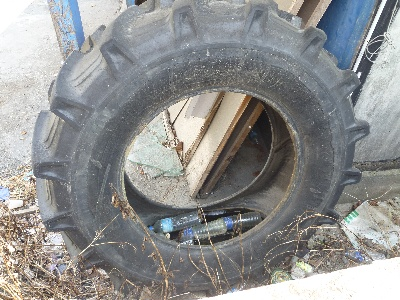bottle: (143, 211, 203, 235), (175, 218, 229, 242), (213, 211, 264, 231)
tire: (30, 1, 373, 295)
